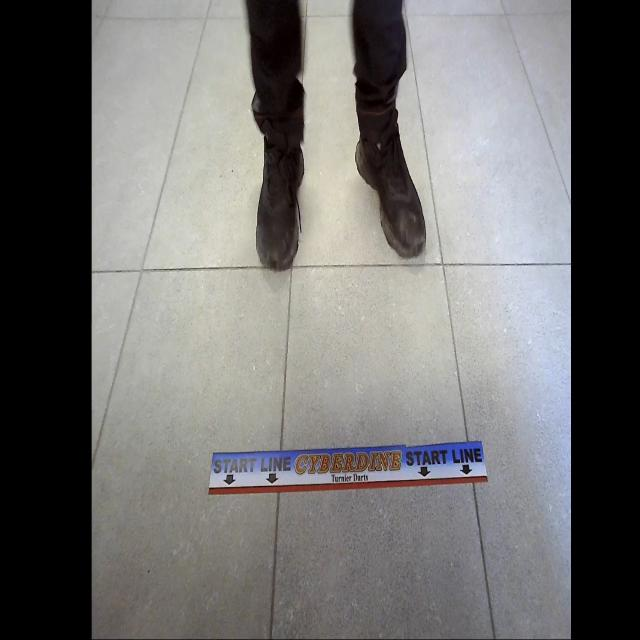foot: (355, 128, 426, 258), (255, 132, 306, 274)
